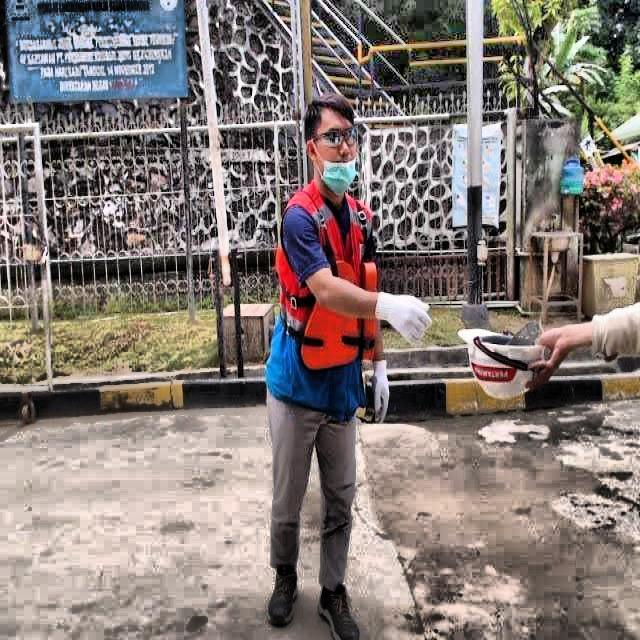safety_jacket: (263, 182, 381, 415)
